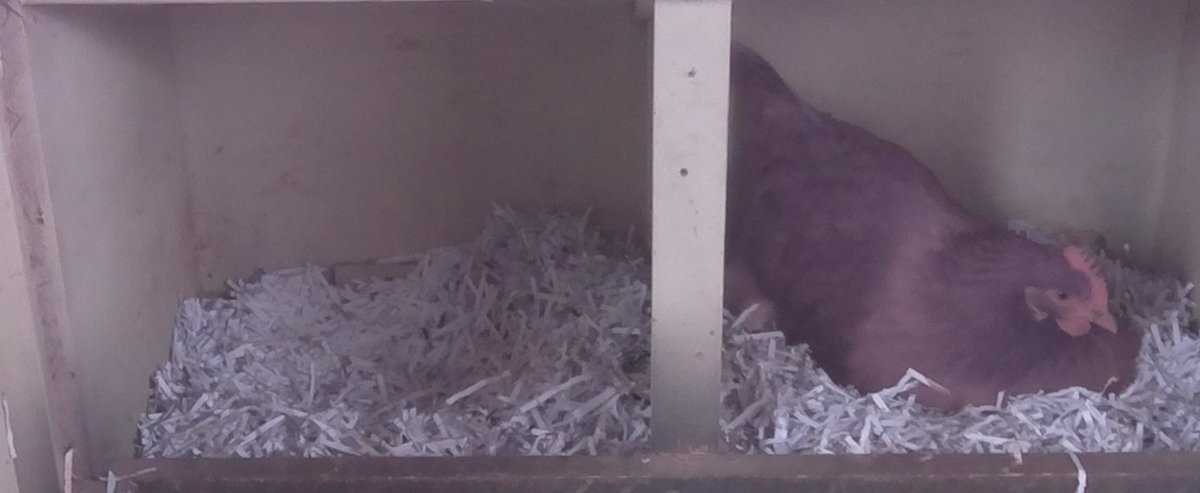hen: (737, 57, 1146, 425)
